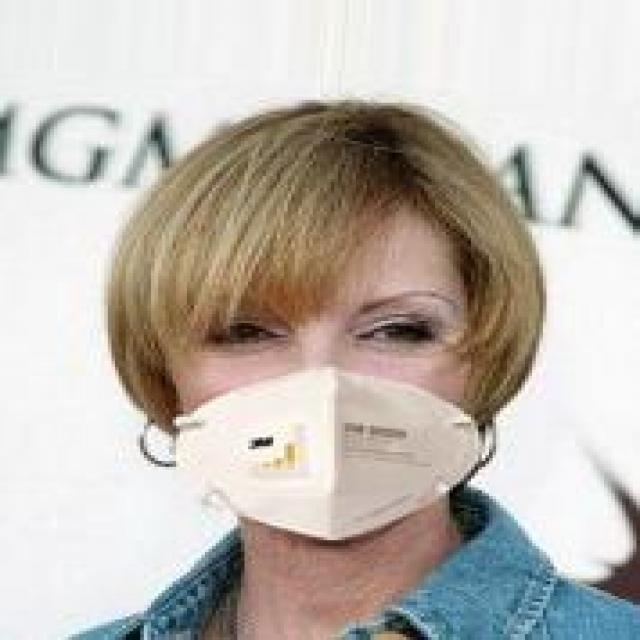mask: (104, 73, 550, 526)
